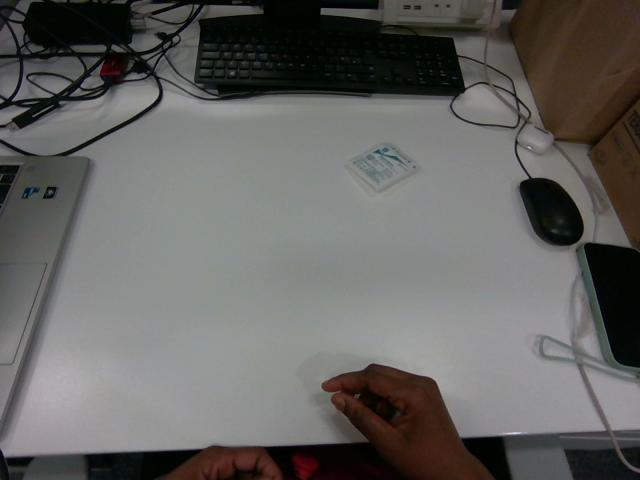gauze: (346, 143, 419, 194)
